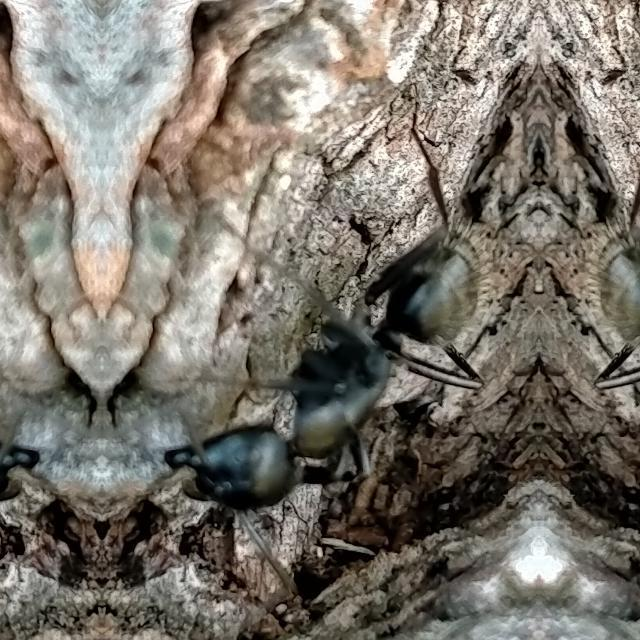Camponotus: (152, 201, 538, 559), (538, 201, 640, 559)
